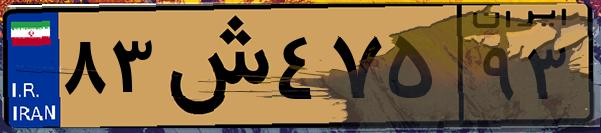3: (525, 38, 570, 115), (110, 28, 158, 98)
4: (270, 28, 330, 110)
5: (385, 28, 445, 110)
7: (330, 28, 385, 110)
8: (57, 26, 110, 100)
9: (475, 38, 525, 113)
ش: (158, 12, 270, 120)
